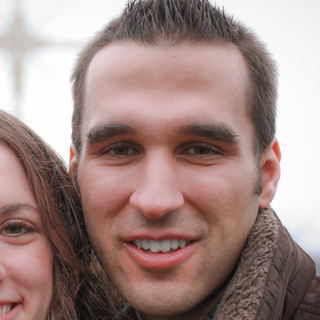eye: (171, 139, 227, 163), (1, 215, 42, 245), (95, 141, 149, 163)
